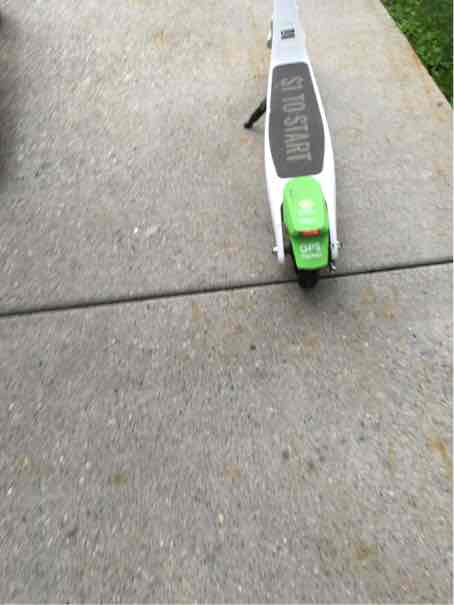scooter: (103, 0, 366, 299)
